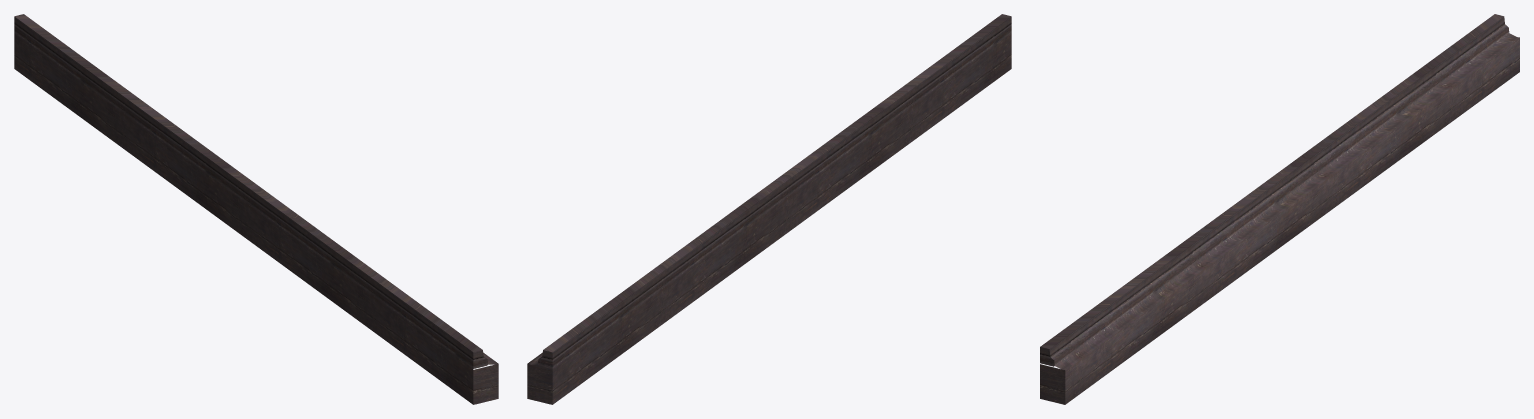
Rendered from souptrim002.glb.
The picture shows the model from 3 angles, left to right: view 1: azimuth 30°, elevation 25°; view 2: azimuth 150°, elevation 25°; view 3: azimuth 330°, elevation 25°; orthographic projection.
Visible parts, largest first — view 1: souptrim002_high_1; view 2: souptrim002_high_1; view 3: souptrim002_high_1.
Part boxes in pixels (x1,y1,x2,y2): souptrim002_high_1: (14, 14, 498, 404); souptrim002_high_1: (527, 14, 1011, 404); souptrim002_high_1: (1040, 14, 1519, 404).
Size of the model in its own units: 0.0861 by 0.1712 by 2.71.
1 material, 1 textured.
